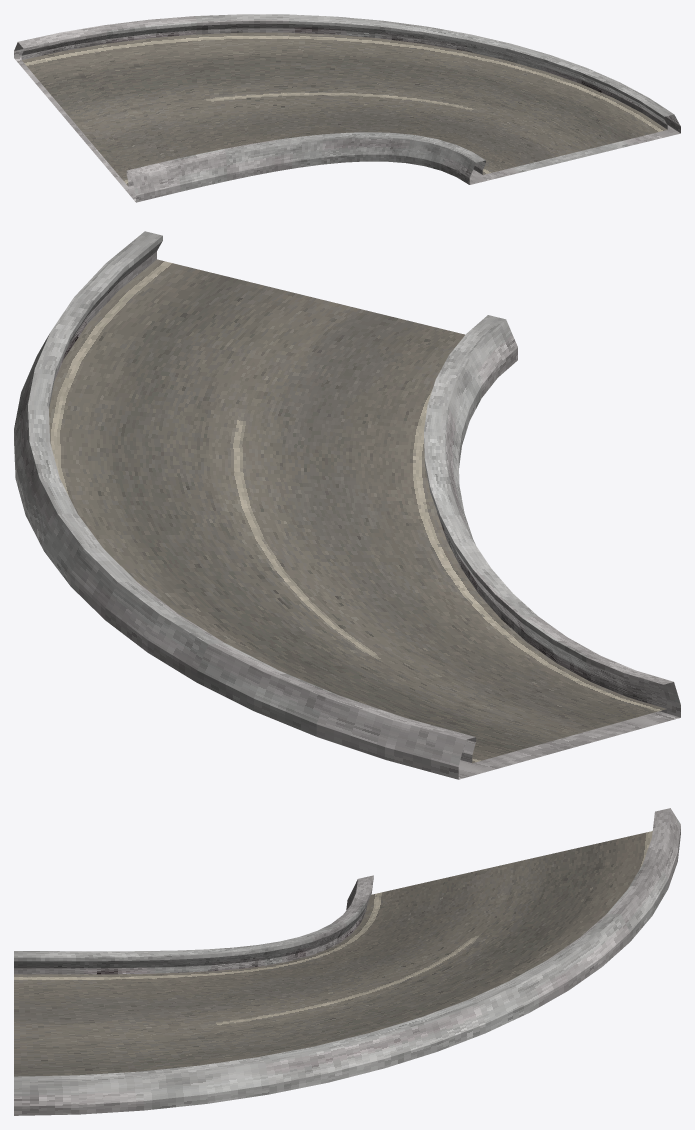
The model's file is road-Turn-Flat-HalfBankedLeft-Down1-Left-Size2.glb.
The picture shows the model from 3 angles, top to bottom: view 1: azimuth 30°, elevation 25°; view 2: azimuth 150°, elevation 25°; view 3: azimuth 270°, elevation 25°; orthographic projection. The views are drawn at different scales.
Visible parts, largest first — view 1: road-Turn-Flat-HalfBankedLeft-Down1-Left-Size2; view 2: road-Turn-Flat-HalfBankedLeft-Down1-Left-Size2; view 3: road-Turn-Flat-HalfBankedLeft-Down1-Left-Size2.
Part boxes in pixels (x1=…): road-Turn-Flat-HalfBankedLeft-Down1-Left-Size2: x1=14, y1=14, x2=680, y2=202; road-Turn-Flat-HalfBankedLeft-Down1-Left-Size2: x1=14, y1=231, x2=680, y2=779; road-Turn-Flat-HalfBankedLeft-Down1-Left-Size2: x1=14, y1=808, x2=680, y2=1115.
Size of the model in its own units: 2 by 0.3438 by 2.
Materials: 2 (2 with a texture image).
